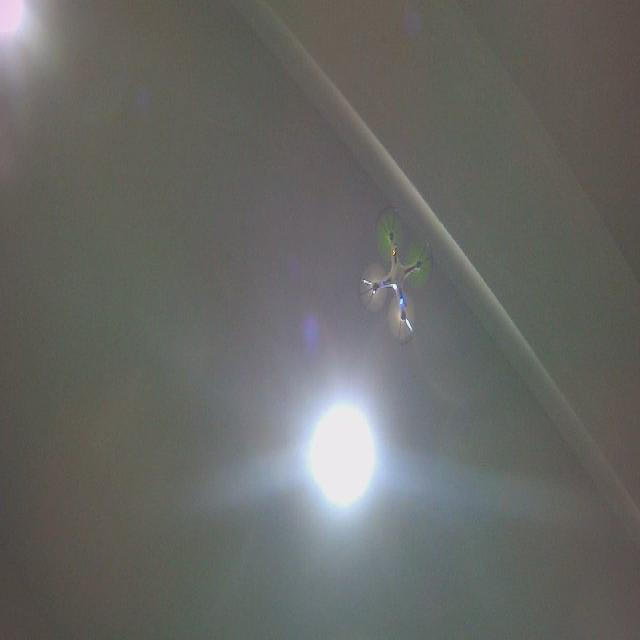drone: (354, 202, 436, 346)
